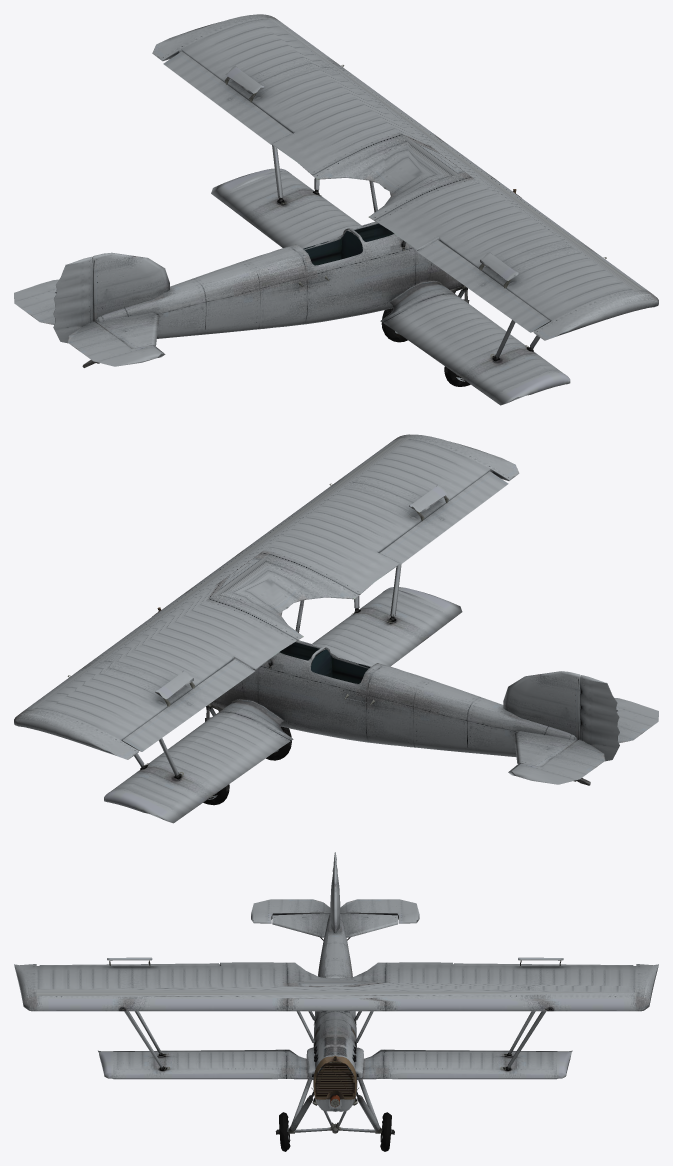
Rendered from potez.glb.
3 views of the same model, one above another, from view 1: azimuth 30°, elevation 25°; view 2: azimuth 150°, elevation 25°; view 3: azimuth 270°, elevation 25° (orthographic). The views are drawn at different scales.
Parts seen in each view (by area): view 1: body; view 2: body; view 3: body.
Part boxes in pixels (x1,y1,x2,y2): body: (14,14,658,405); body: (14,434,658,823); body: (14,852,658,1151).
Size of the model in its own units: 10.45 by 4.39 by 15.2.
Materials: 1 (1 with a texture image).
